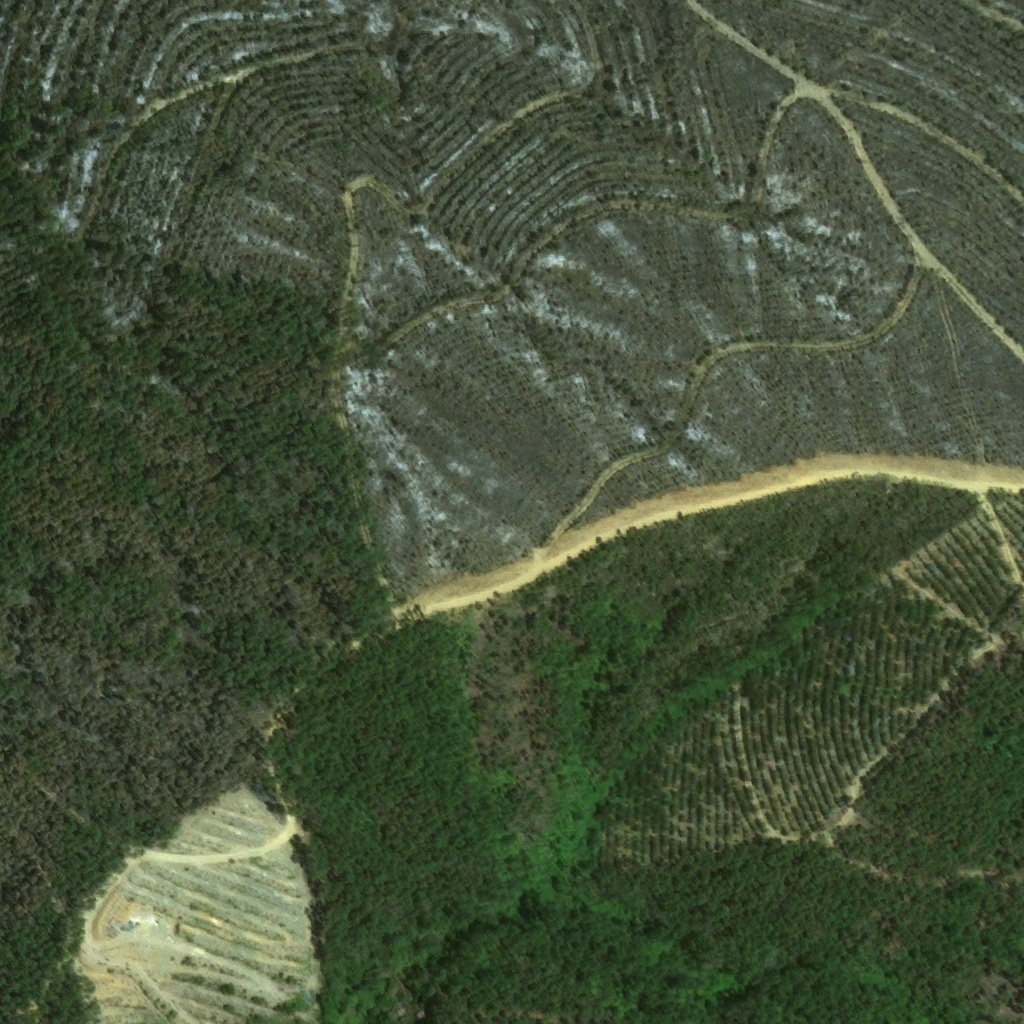4 un-classified: (163, 919, 175, 936)
